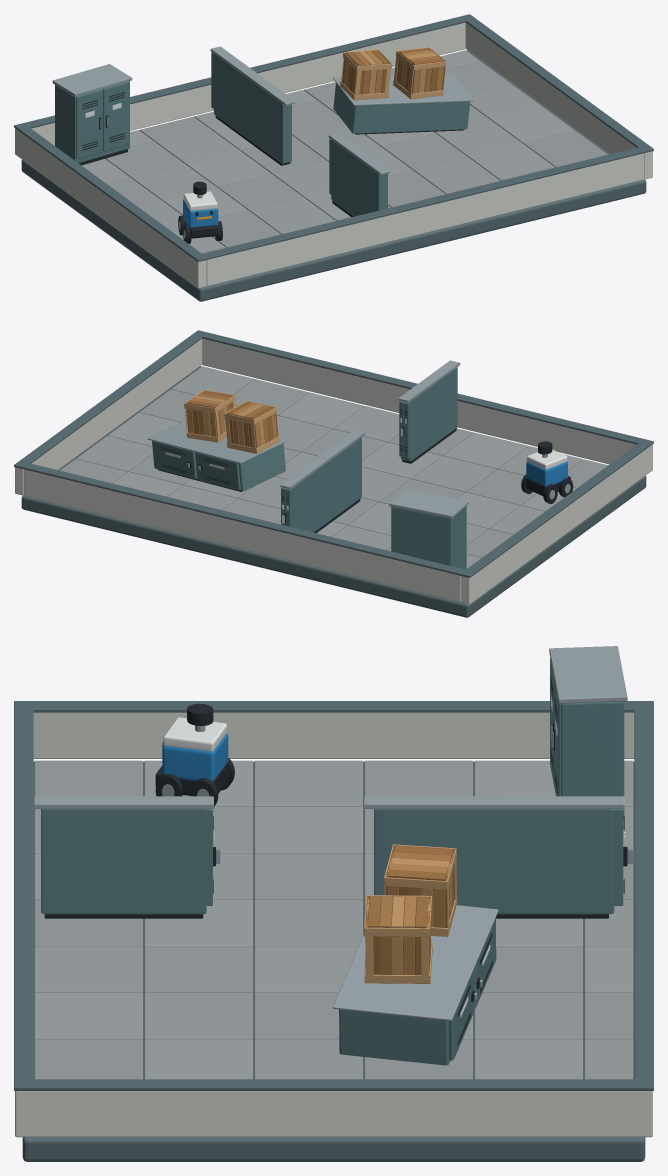
3 renders of one model, top to bottom at view 1: azimuth 30°, elevation 25°; view 2: azimuth 150°, elevation 25°; view 3: azimuth 270°, elevation 25°, orthographic. The views are drawn at different scales.
Visible parts, largest first — view 1: Cutaway wall.002, Floor foundation, storage, Cutaway wall.003, divider_1, mount, Cutaway wall, Cutaway wall.001, divider_0, Wall coping.002, Wall coping.003, box_0 (+34 smaller); view 2: Cutaway wall.003, Cutaway wall.002, Floor foundation, divider_1, mount, Cutaway wall, storage, Cutaway wall.001, divider_0, Wall coping.003, Wall coping.002, box_1 (+36 smaller); view 3: Cutaway wall.001, divider_1, Cutaway wall, divider_0, Floor foundation, mount, storage, Wall coping.001, Wall coping.002, Wall coping.003, Wall coping, box_0 (+32 smaller).
Part boxes in pixels (x1=…): Cutaway wall.002: x1=206, y1=153, x2=644, y2=286; Floor foundation: x1=21, y1=50, x2=646, y2=301; storage: x1=52, y1=64, x2=132, y2=165; Cutaway wall.003: x1=31, y1=22, x2=465, y2=145; divider_1: x1=210, y1=46, x2=295, y2=165; mount: x1=332, y1=72, x2=473, y2=134; Cutaway wall: x1=15, y1=128, x2=206, y2=288; Cutaway wall.001: x1=465, y1=23, x2=652, y2=179; divider_0: x1=328, y1=133, x2=390, y2=217; Wall coping.002: x1=202, y1=147, x2=644, y2=259; Wall coping.003: x1=23, y1=16, x2=465, y2=128; box_0: x1=393, y1=47, x2=446, y2=99; Cutaway wall.003: x1=23, y1=469, x2=461, y2=602; Cutaway wall.002: x1=202, y1=338, x2=636, y2=464; Floor foundation: x1=21, y1=366, x2=646, y2=617; divider_1: x1=280, y1=430, x2=365, y2=533; mount: x1=147, y1=420, x2=287, y2=491; Cutaway wall: x1=461, y1=444, x2=652, y2=604; storage: x1=389, y1=488, x2=468, y2=569; Cutaway wall.001: x1=15, y1=339, x2=202, y2=495; divider_0: x1=398, y1=360, x2=460, y2=463; Wall coping.003: x1=23, y1=463, x2=465, y2=575; Wall coping.002: x1=202, y1=332, x2=644, y2=444; box_1: x1=224, y1=401, x2=279, y2=453; Cutaway wall.001: x1=15, y1=1091, x2=652, y2=1137; divider_1: x1=363, y1=796, x2=634, y2=918; Cutaway wall: x1=33, y1=712, x2=634, y2=758; divider_0: x1=33, y1=796, x2=220, y2=918; Floor foundation: x1=22, y1=761, x2=645, y2=1161; mount: x1=333, y1=905, x2=498, y2=1065; storage: x1=549, y1=646, x2=627, y2=818; Wall coping.001: x1=14, y1=1079, x2=653, y2=1090; Wall coping.002: x1=14, y1=708, x2=33, y2=1079; Wall coping.003: x1=634, y1=708, x2=653, y2=1079; Wall coping: x1=14, y1=701, x2=653, y2=712; box_0: x1=364, y1=895, x2=432, y2=983.
Size of the model in its own units: 8.32 by 1.65 by 5.82.
